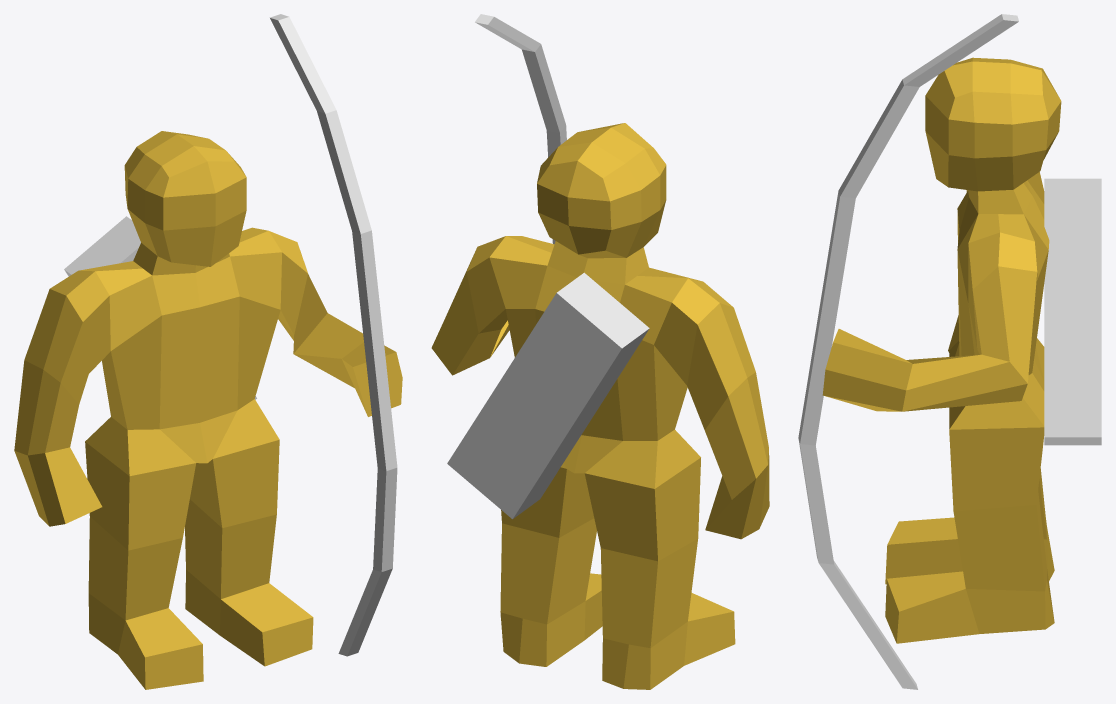
File: archer.glb
The picture shows the model from 3 angles, left to right: view 1: azimuth 30°, elevation 25°; view 2: azimuth 150°, elevation 25°; view 3: azimuth 270°, elevation 25°; orthographic projection. The views are drawn at different scales.
Visible parts, largest first — view 1: Cube.001, Cube, Cube.002; view 2: Cube.001, Cube.002, Cube; view 3: Cube.001, Cube.002, Cube.
Part boxes in pixels (<box>): Cube.001: <box>14,131,402,689</box>; Cube: <box>270,14,397,656</box>; Cube.002: <box>64,216,256,399</box>; Cube.001: <box>431,123,769,689</box>; Cube.002: <box>447,272,649,519</box>; Cube: <box>475,14,566,617</box>; Cube.001: <box>822,57,1061,643</box>; Cube.002: <box>1044,178,1101,445</box>; Cube: <box>798,14,1018,689</box>.
Size of the model in its own units: 1.42 by 2.62 by 1.09.
